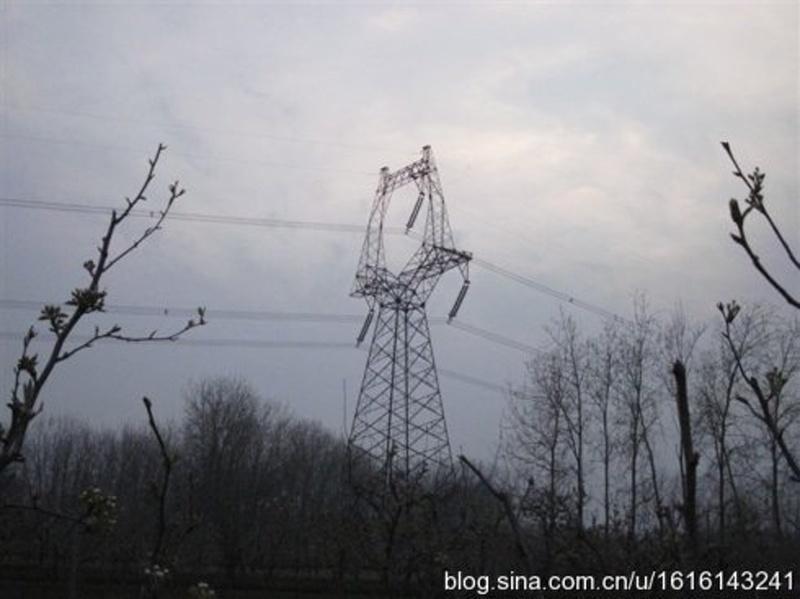power_tower: (353, 150, 450, 473)
